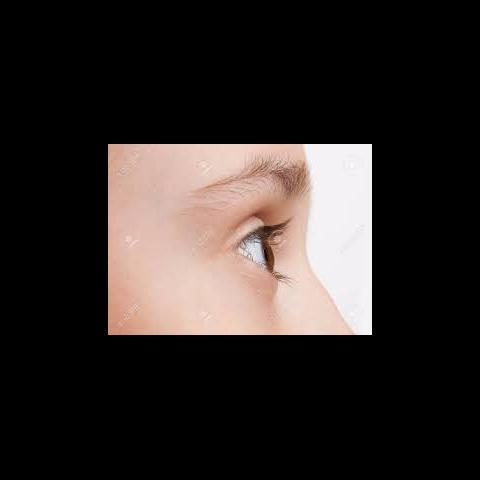opened: (208, 171, 300, 297)
